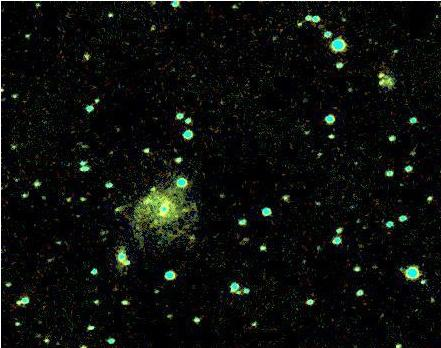star: (121, 213, 151, 243)
